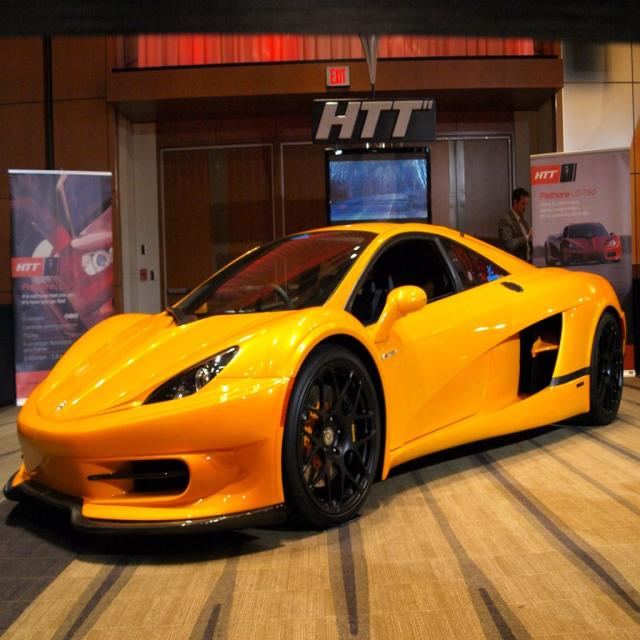car: (4, 215, 623, 522)
